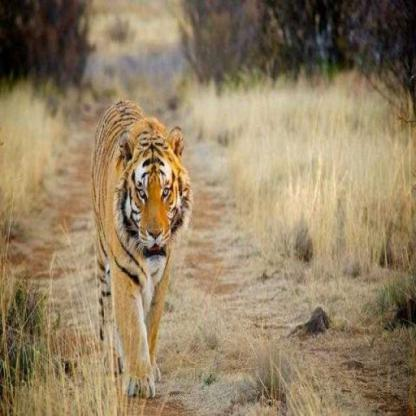Tiger: (82, 91, 209, 403)
